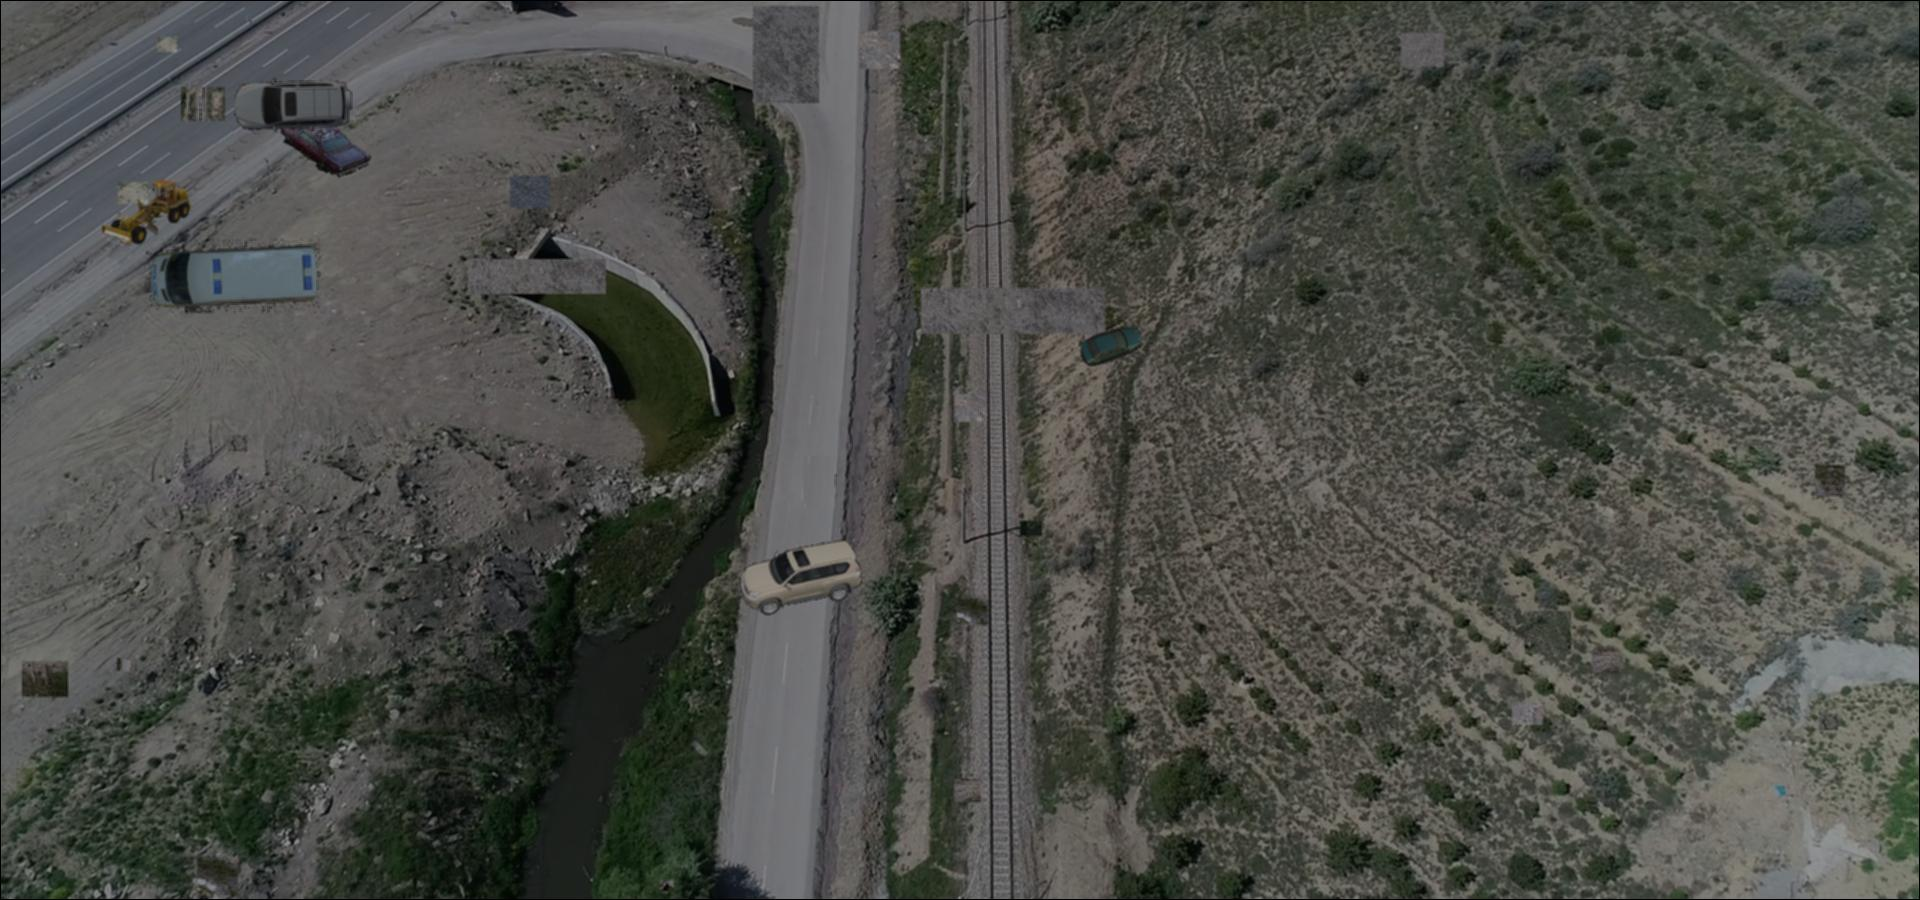arac: (144, 239, 321, 313), (735, 540, 864, 615), (231, 73, 351, 133), (100, 176, 198, 249), (276, 108, 373, 178), (1081, 324, 1141, 366)
